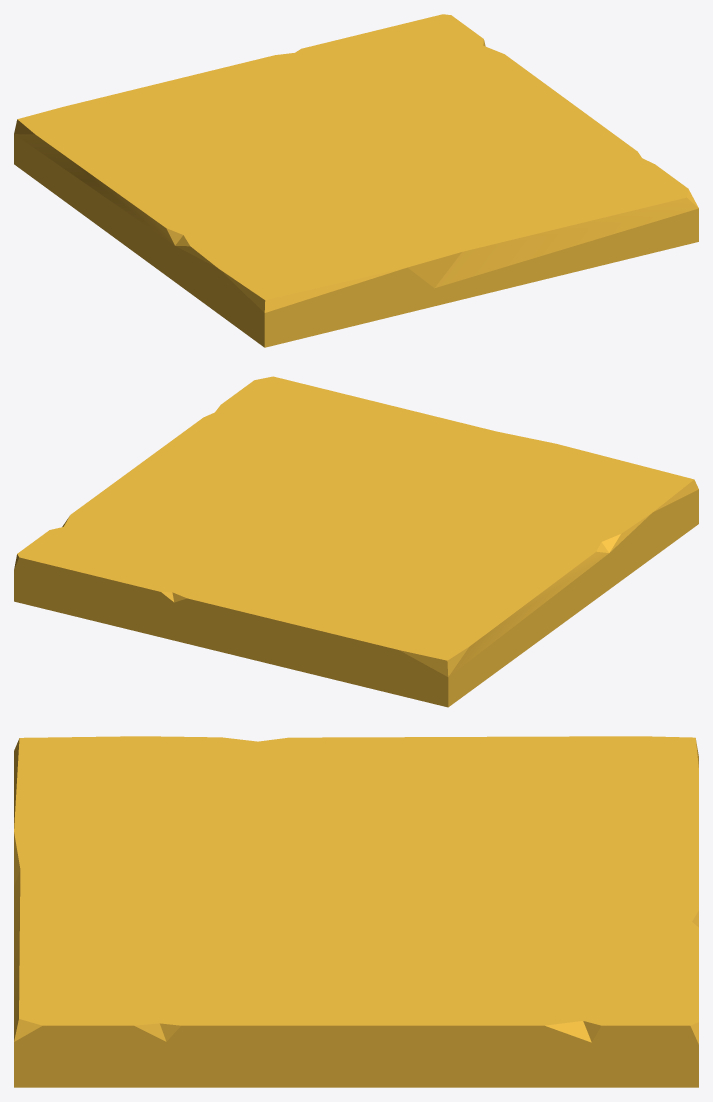
File: Tile.glb
The picture shows the model from 3 angles, top to bottom: view 1: azimuth 30°, elevation 25°; view 2: azimuth 150°, elevation 25°; view 3: azimuth 270°, elevation 25°; orthographic projection. The views are drawn at different scales.
Visible parts, largest first — view 1: SM_PolygonPrototype_Buildings_Floor_5x5_01P; view 2: SM_PolygonPrototype_Buildings_Floor_5x5_01P; view 3: SM_PolygonPrototype_Buildings_Floor_5x5_01P.
Part boxes in pixels (box(x1,y1,x2,y2)): SM_PolygonPrototype_Buildings_Floor_5x5_01P: box(14, 14, 698, 347); SM_PolygonPrototype_Buildings_Floor_5x5_01P: box(14, 376, 698, 707); SM_PolygonPrototype_Buildings_Floor_5x5_01P: box(14, 736, 698, 1087).
Size of the model in its own units: 1 by 0.1 by 1.
